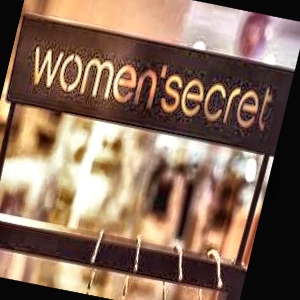women_secret: (268, 49, 297, 111)
